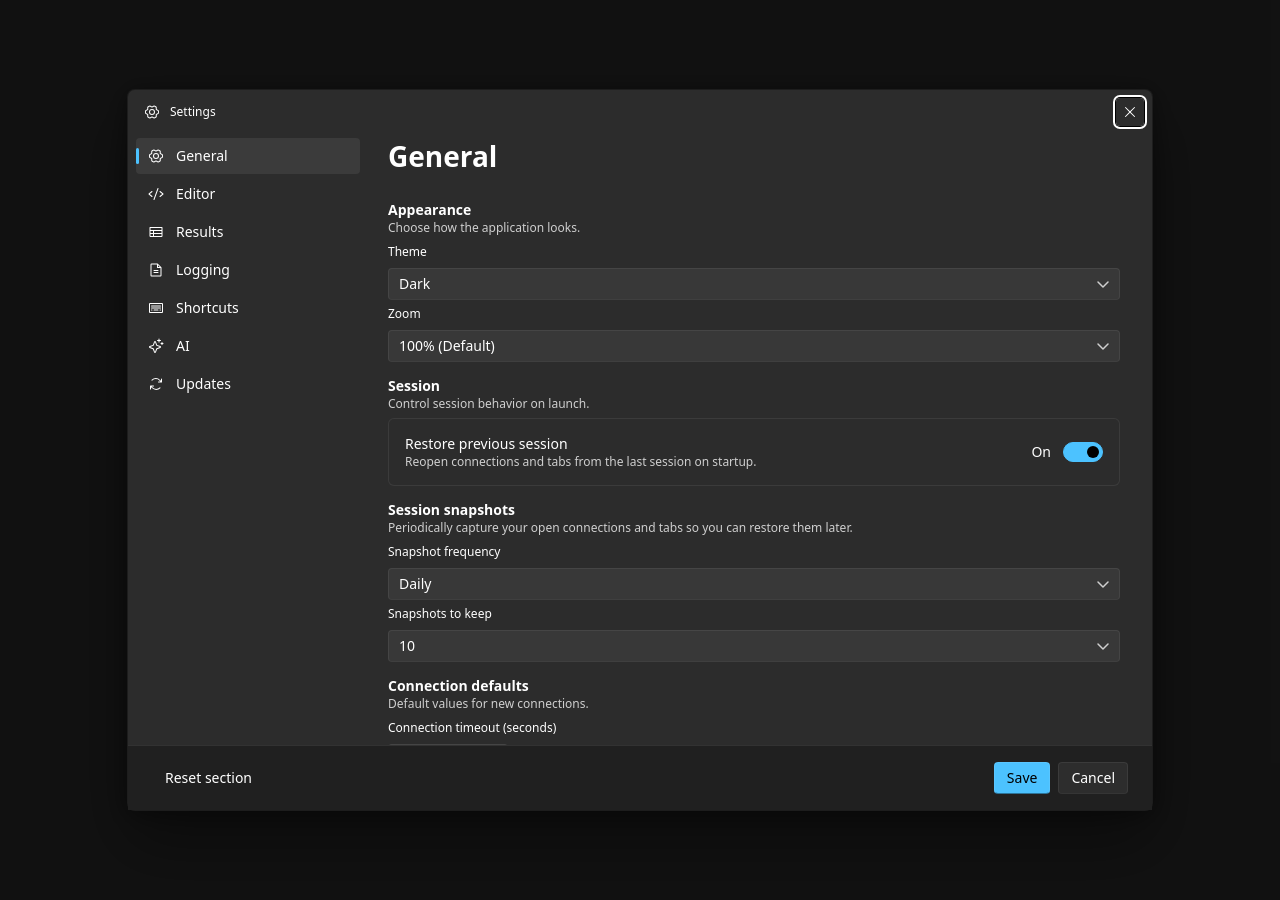
Test case: SettingsDialog › Cancel shows confirm dialog when dirty
The width and height of the screenshot is (1280, 900).
Click the button with test id "settings-cancel". click: (1093, 778)
box: 1058,762 -> 1128,794
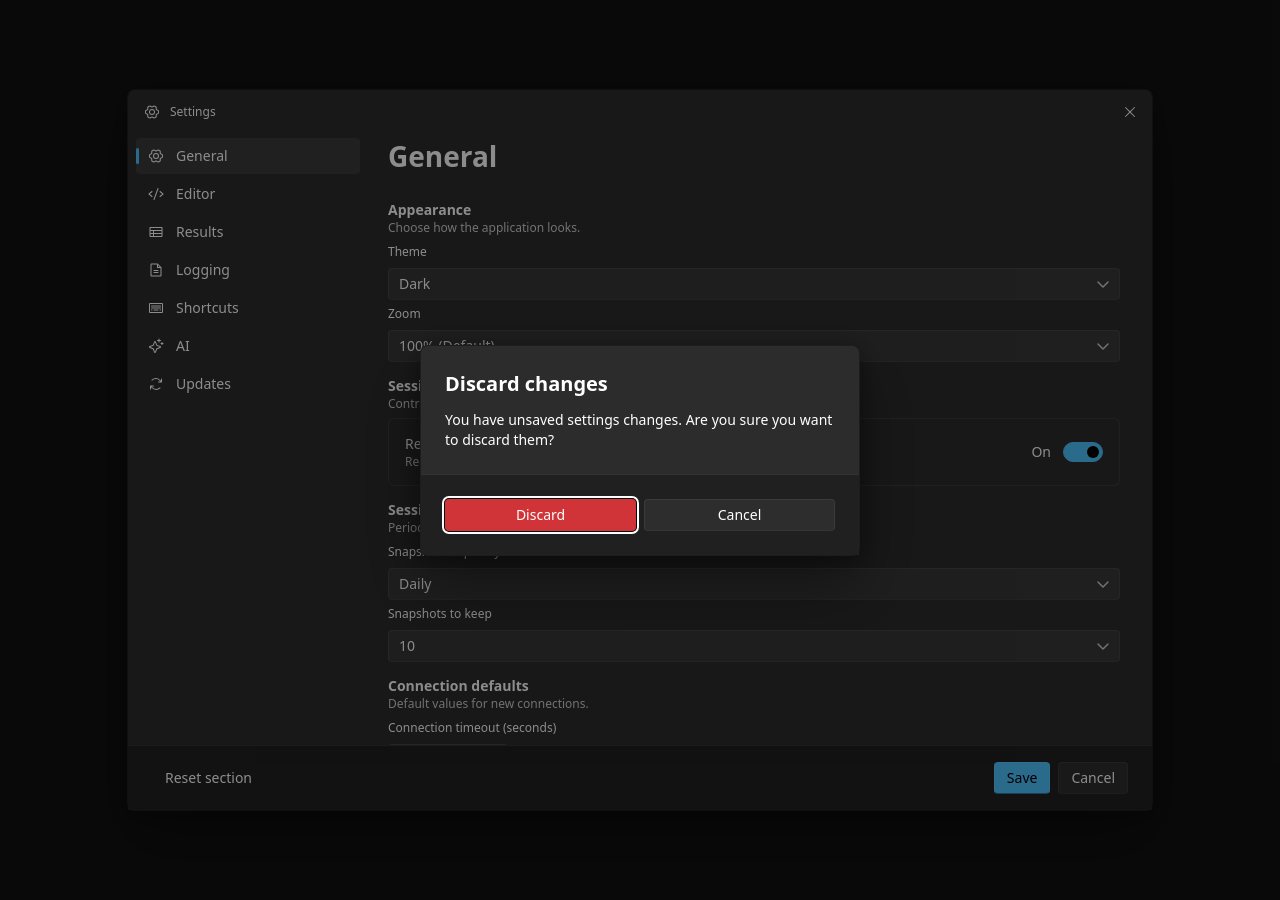
expect the dialog with test id "confirm-dialog" is shown: met
expect the heading "Discard changes" is shown: met, box 445,370 -> 608,396
